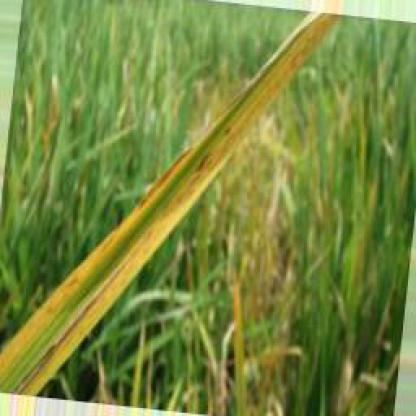Tungro: (6, 4, 346, 393)
